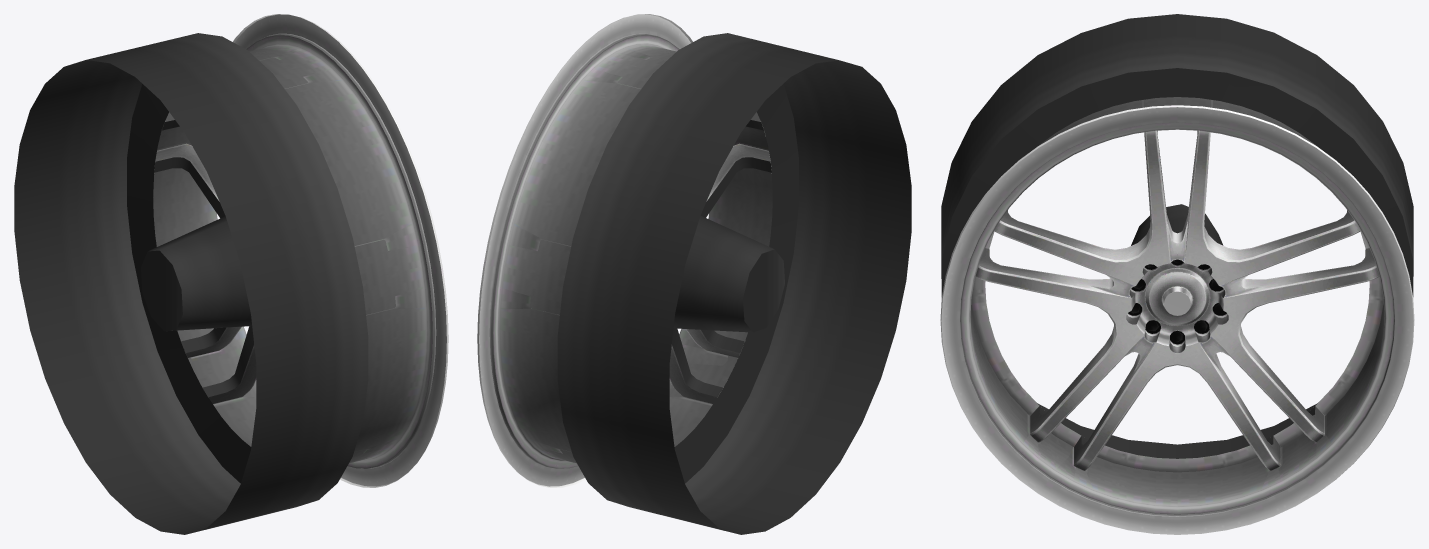
File: wheel59.fbx
3 views of the same model, side by side, from view 1: azimuth 30°, elevation 25°; view 2: azimuth 150°, elevation 25°; view 3: azimuth 270°, elevation 25° (orthographic). The views are drawn at different scales.
Parts seen in each view (by area): view 1: rac_j5_wheel_wheel_inner_rim_, wheel_rim, rac_j5_wheel_wheel_rim_; view 2: rac_j5_wheel_wheel_inner_rim_, wheel_rim, rac_j5_wheel_wheel_rim_; view 3: wheel_rim, rac_j5_wheel_wheel_rim_, rac_j5_wheel_wheel_inner_rim_.
Boxes of the visible parts, <box> form: rac_j5_wheel_wheel_inner_rim_: <box>14,33,368,534</box>; wheel_rim: <box>153,14,448,487</box>; rac_j5_wheel_wheel_rim_: <box>153,38,425,461</box>; rac_j5_wheel_wheel_inner_rim_: <box>557,33,911,534</box>; wheel_rim: <box>477,14,772,487</box>; rac_j5_wheel_wheel_rim_: <box>495,45,772,466</box>; wheel_rim: <box>940,97,1414,534</box>; rac_j5_wheel_wheel_rim_: <box>970,97,1392,511</box>; rac_j5_wheel_wheel_inner_rim_: <box>941,14,1413,458</box>.
Bounding box in the file's own units: 0.2202 × 0.4818 × 0.4807.
1 material, 1 textured.
